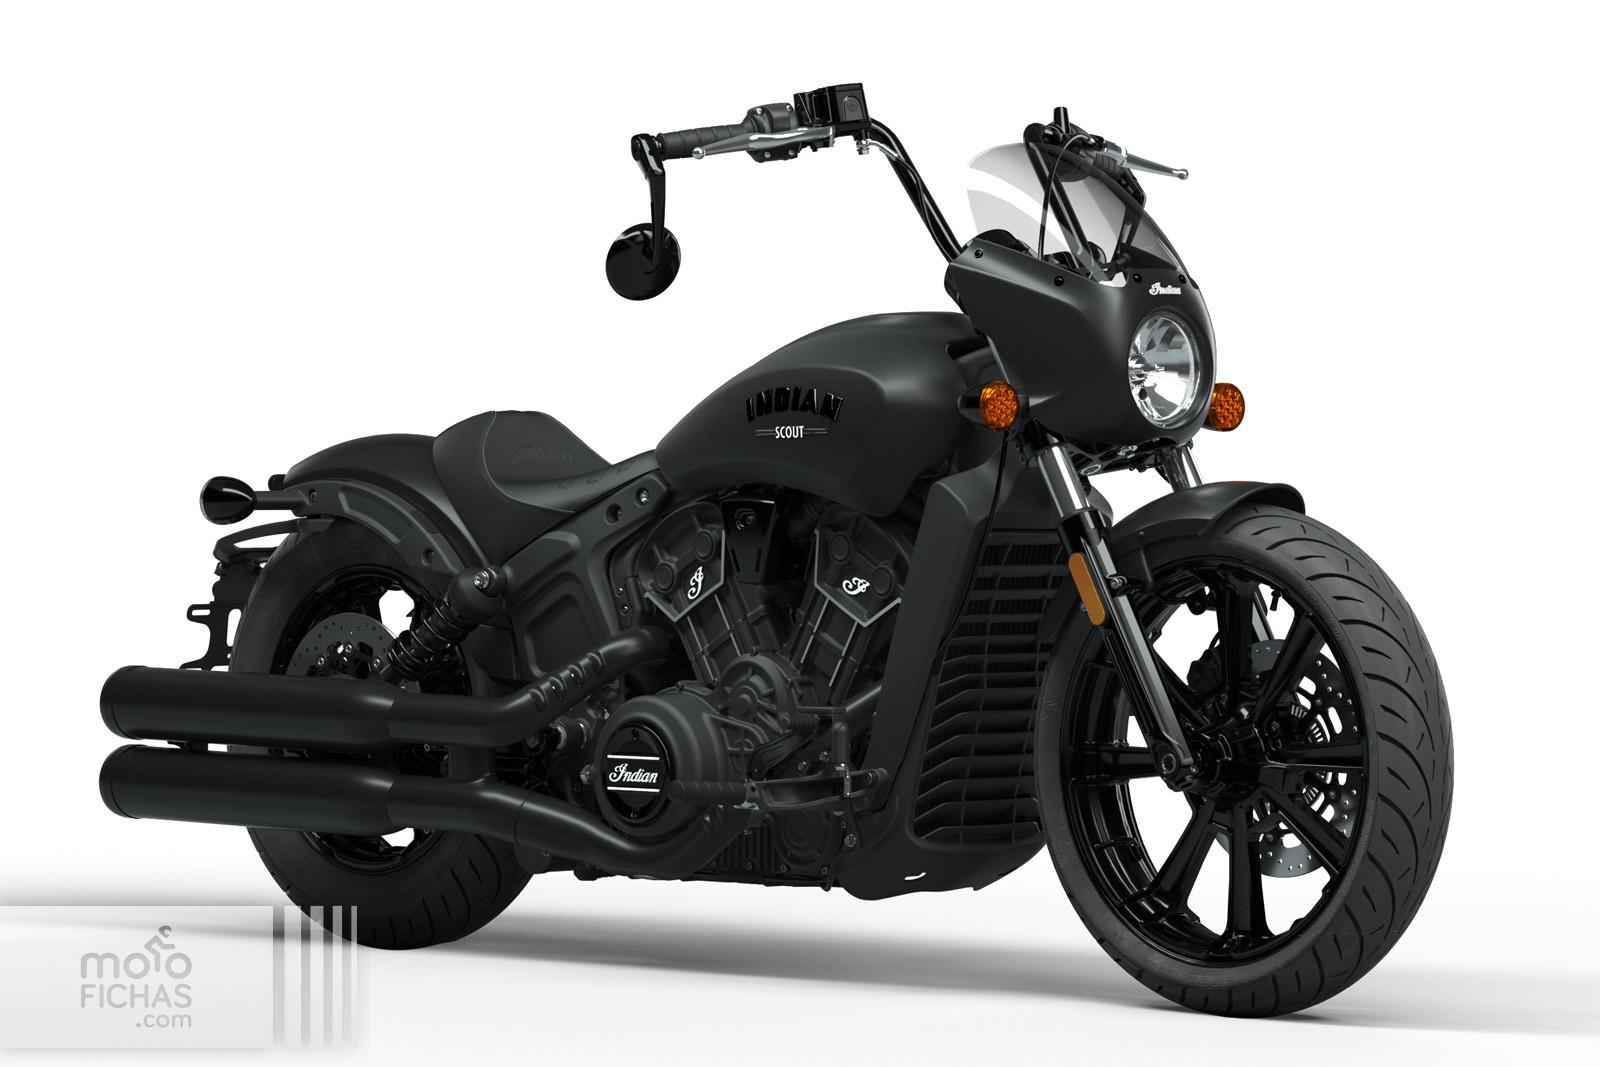engine-chasis: (495, 451, 951, 893), (367, 564, 507, 686)
exhaust: (98, 745, 751, 879), (99, 626, 668, 751)
frontside: (838, 142, 1306, 901)
handlebar: (605, 81, 964, 301), (1023, 106, 1189, 210)
motorbike: (99, 81, 1455, 1017)
rearside: (179, 432, 524, 687)
seat: (432, 410, 661, 566)
tank: (654, 310, 979, 517)
watermark: (0, 906, 357, 1056)
wheel: (1033, 504, 1455, 1019), (245, 828, 533, 950), (227, 516, 440, 679)
